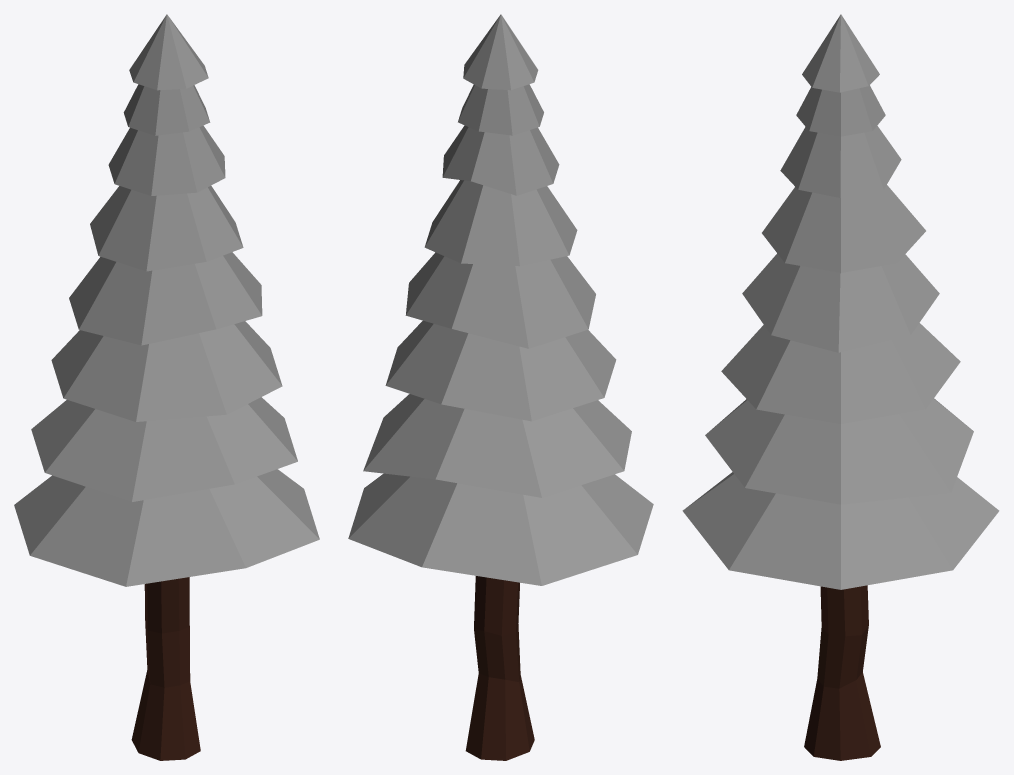
File: Fir02.fbx
3 views of the same model, side by side, from view 1: azimuth 30°, elevation 25°; view 2: azimuth 150°, elevation 25°; view 3: azimuth 270°, elevation 25° (orthographic).
Visible parts, largest first — view 1: Fir02; view 2: Fir02; view 3: Fir02.
Part boxes in pixels (left/top/right/bottom): Fir02: left=14, top=14, right=319, bottom=760; Fir02: left=348, top=14, right=653, bottom=760; Fir02: left=682, top=14, right=999, bottom=760.
Size of the model in its own units: 259 by 662 by 259.
